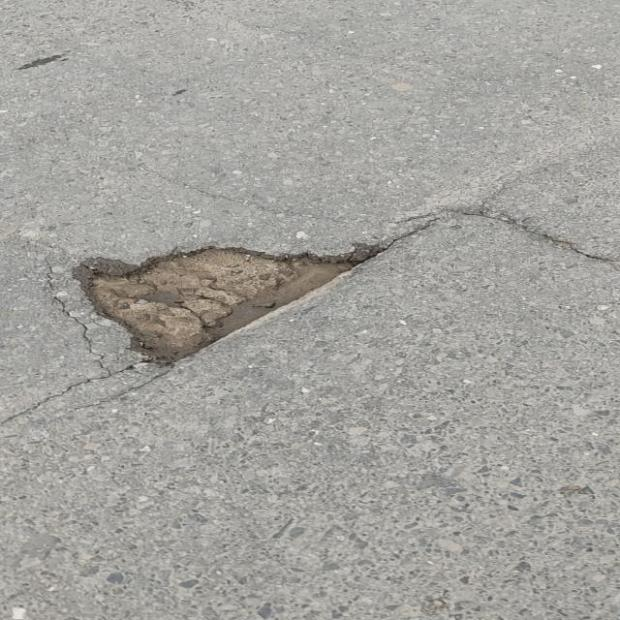lubang: (76, 240, 395, 360)
